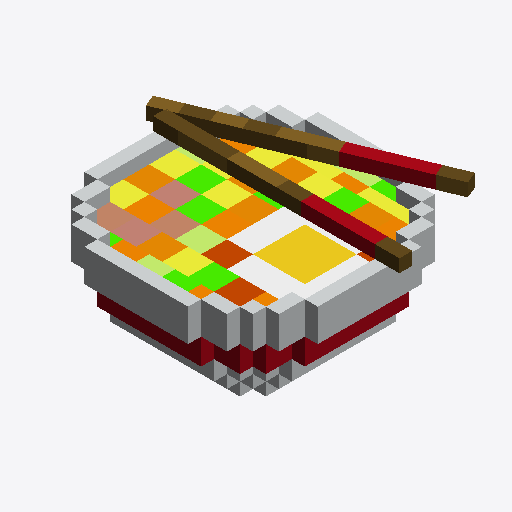
A Minecraft block model of 68 cuboids, rendered isometrically (azimuth 45°, elevation 35.3°) with the resource pack's own textures.
Visible parts, largest first — element 60, element 67, element 68, element 58, element 9, element 62, element 61, element 10, element 57, element 8, element 41, element 47 (+14 smaller).
Boxes of the visible parts, <box> form: element 60: <box>110,147,373,298</box>; element 67: <box>146,96,474,196</box>; element 68: <box>153,109,411,272</box>; element 58: <box>84,239,200,343</box>; element 9: <box>305,239,421,343</box>; element 62: <box>97,202,277,305</box>; element 61: <box>220,138,407,240</box>; element 10: <box>84,132,179,186</box>; element 57: <box>97,292,213,365</box>; element 8: <box>292,292,408,365</box>; element 41: <box>266,292,304,350</box>; element 47: <box>201,292,239,350</box>.
Bounding box in the file's own units: 9.5 × 4.5 × 10.18.